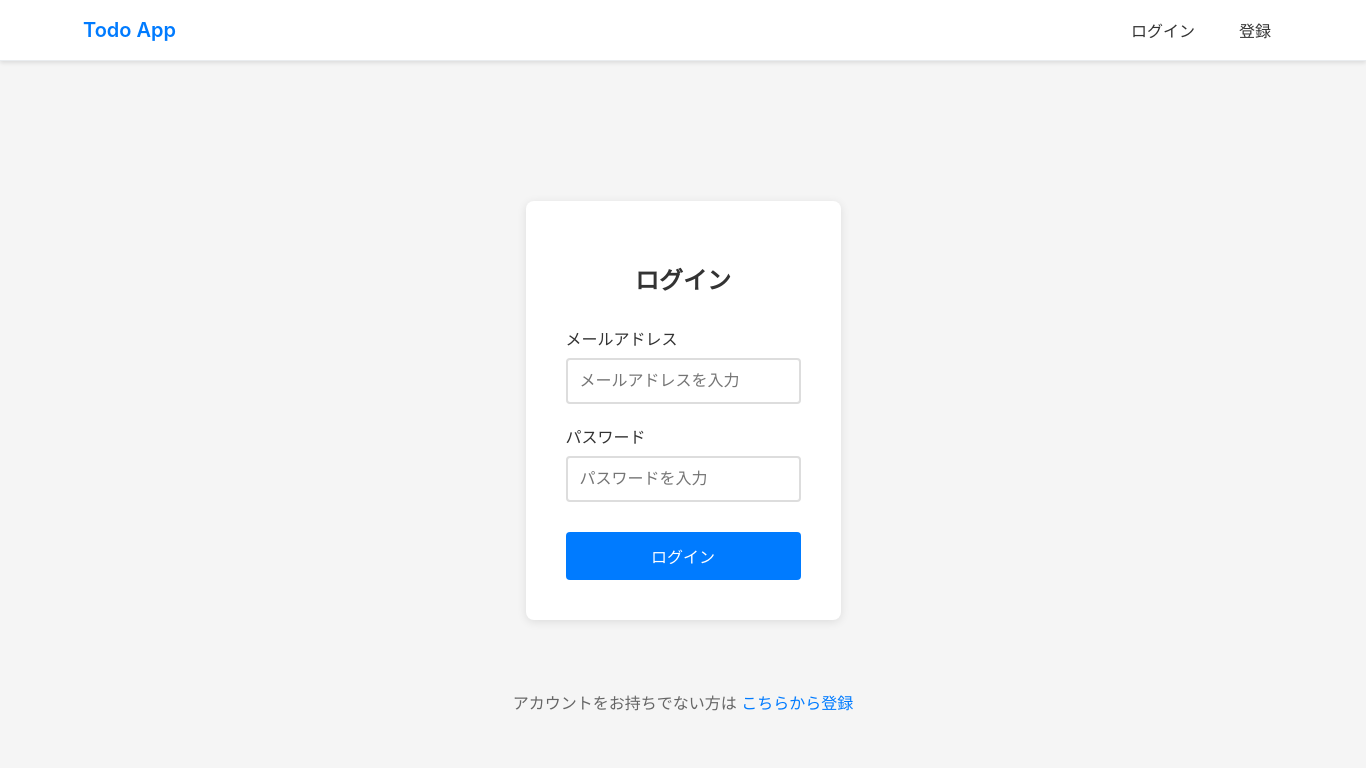
Test: 認証フロー統合テスト › ログインフローが正常に動作する
The width and height of the screenshot is (1366, 768).
Expected: the heading "ログイン" is shown, [635,266,731,295]
Type "test@example.com" into the field labelled "メールアドレス" at (683, 381), box [566,358,800,404]
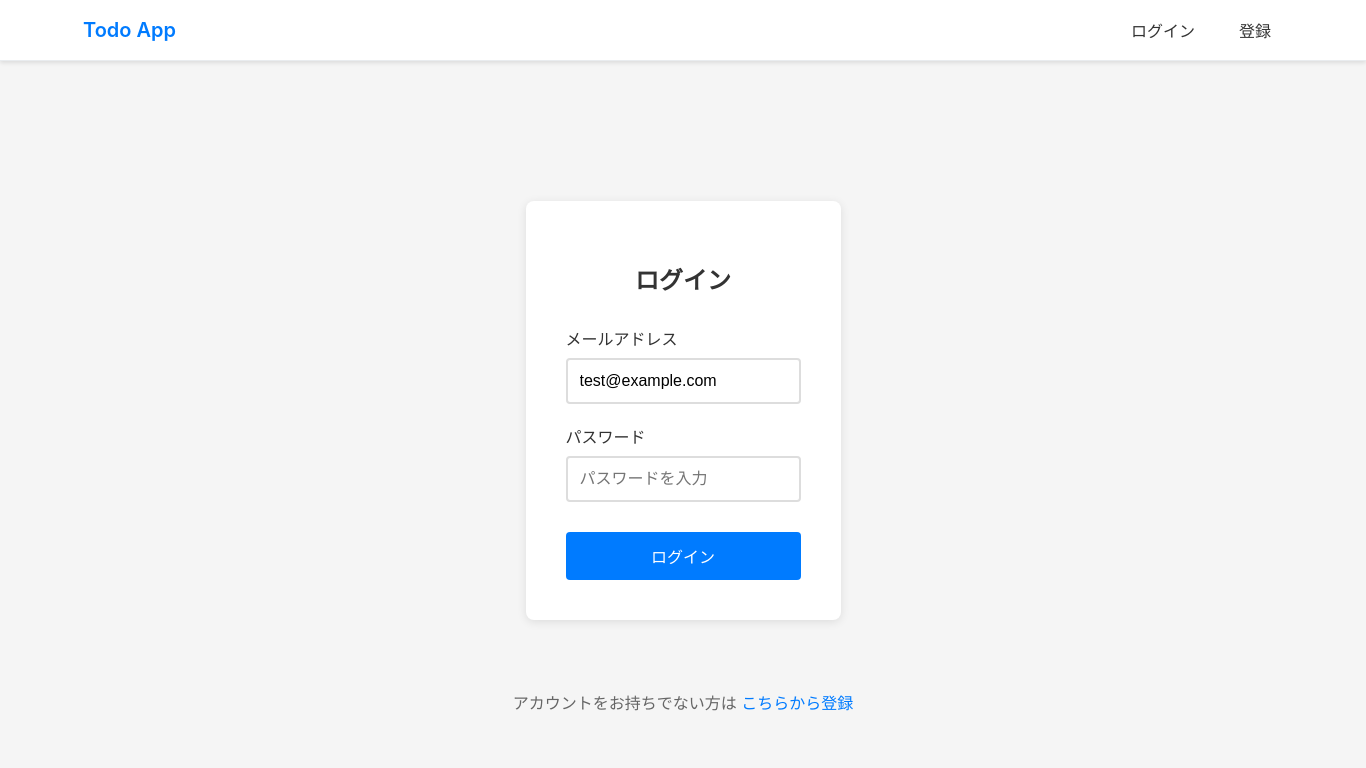
Type "Password123!" into the password field labelled "パスワード" at (683, 479), box [566,456,800,502]
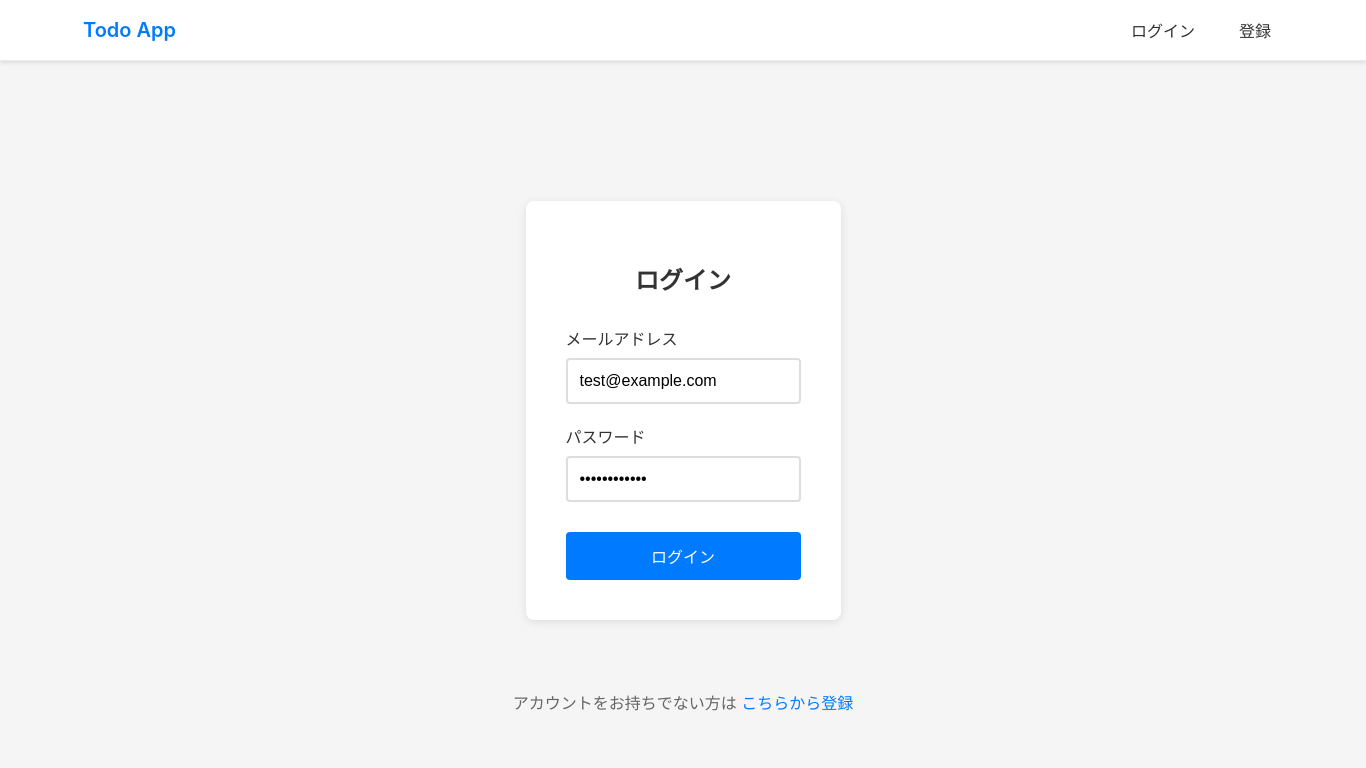
Click the button "ログイン" at (683, 556), box [566,532,800,580]
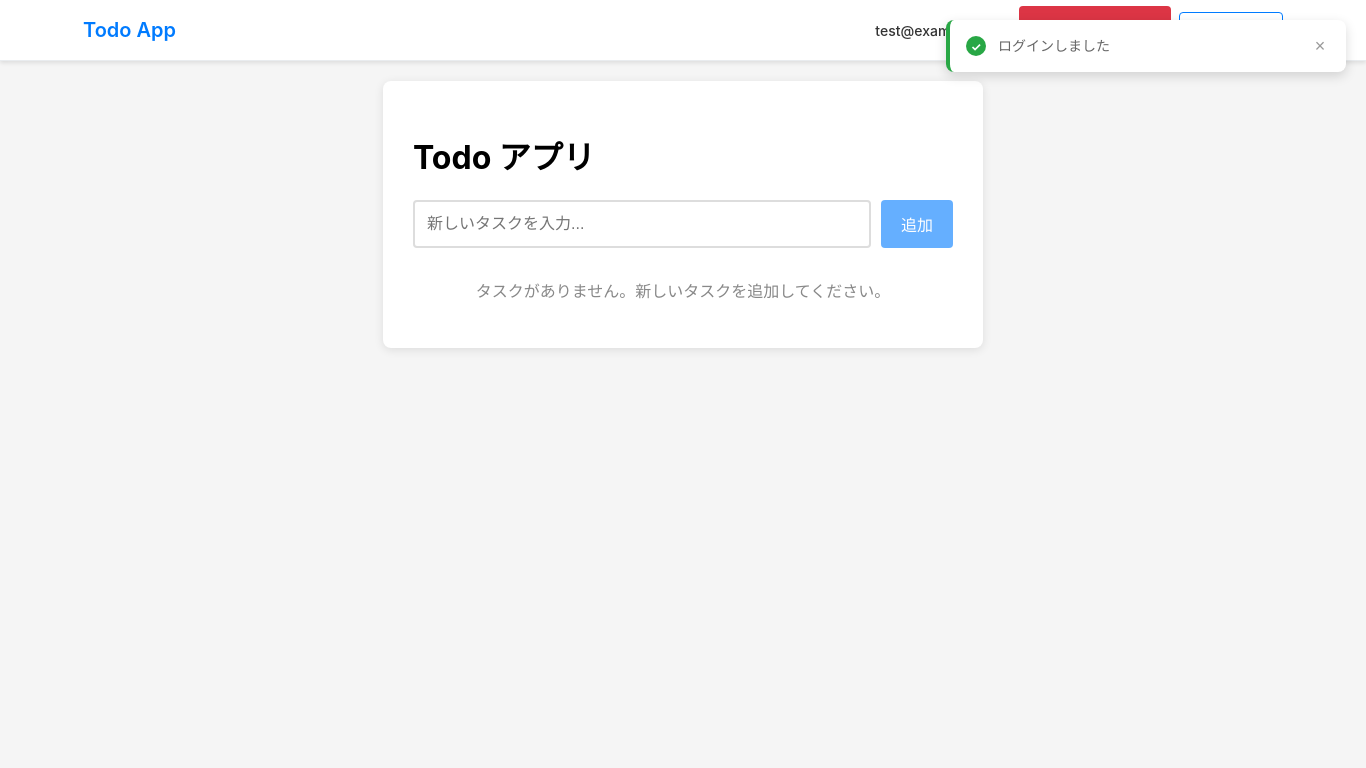
Expected: the heading "Todo アプリ" is shown, [413,138,595,177]
